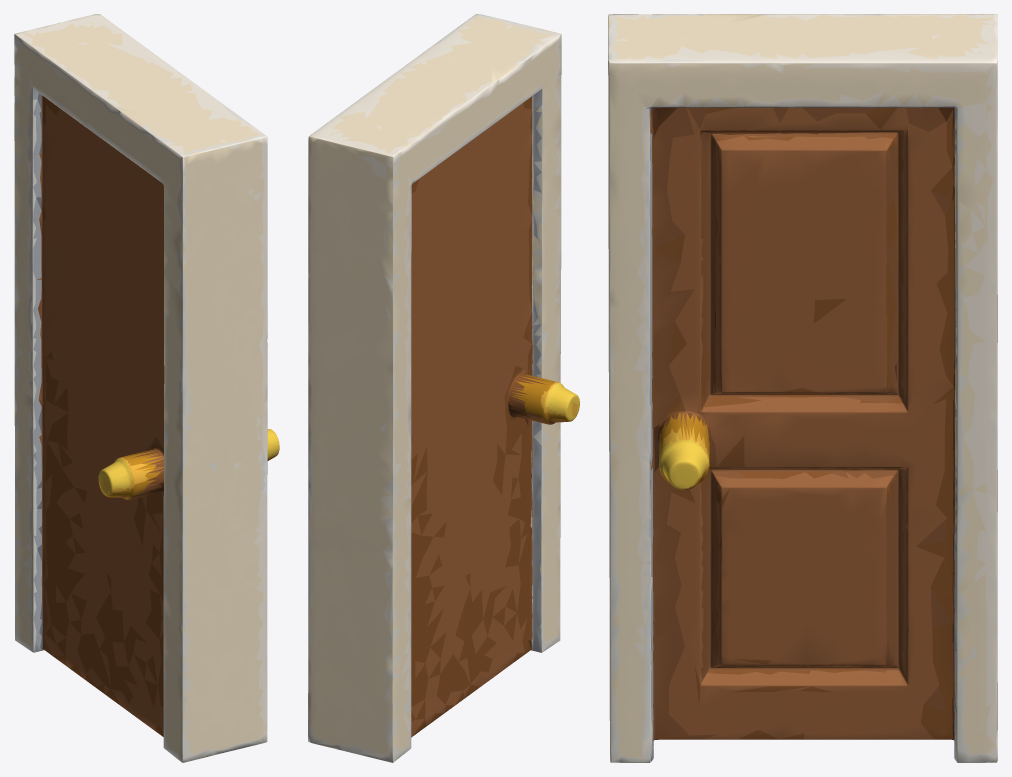
The model's file is SM_door_wood_open.fbx.
The picture shows the model from 3 angles, left to right: view 1: azimuth 30°, elevation 25°; view 2: azimuth 150°, elevation 25°; view 3: azimuth 270°, elevation 25°; orthographic projection. The views are drawn at different scales.
Visible parts, largest first — view 1: SM_door_wood_open; view 2: SM_door_wood_open; view 3: SM_door_wood_open.
Part boxes in pixels (x1,y1,x2,y2): SM_door_wood_open: (14,14,279,762); SM_door_wood_open: (308,14,579,762); SM_door_wood_open: (608,14,997,762).
Size of the model in its own units: 58.23 by 200 by 101.
Materials: 1 (1 with a texture image).
